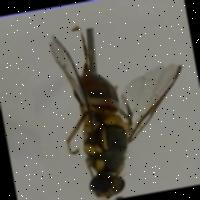Oriental-fruit-fly: (21, 12, 200, 200)
